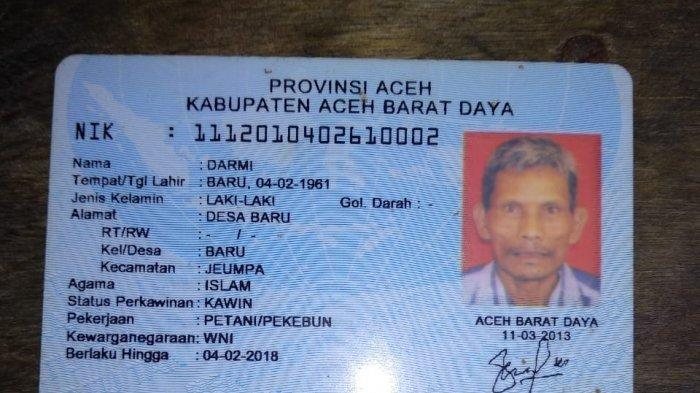ID-card: (39, 59, 631, 390)
